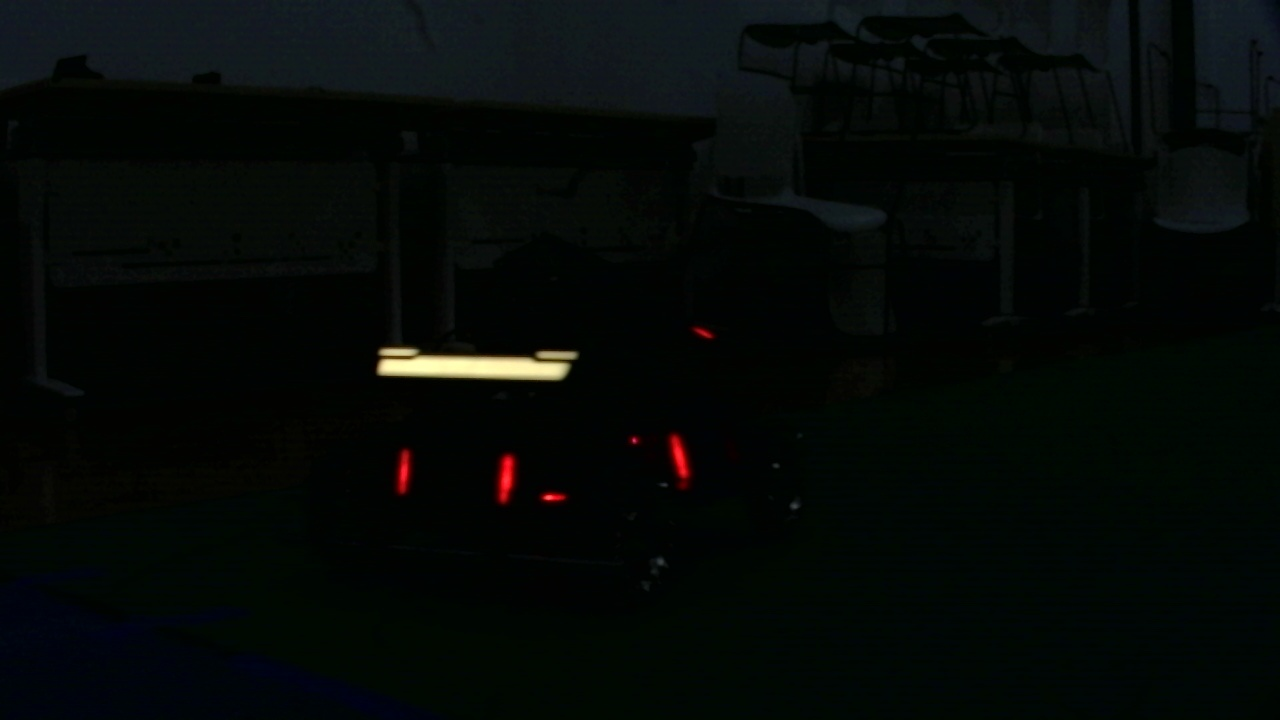lamp: (492, 447, 526, 511), (663, 420, 694, 483), (396, 436, 413, 502)
notpair1: (492, 424, 692, 509)
pair1: (393, 451, 518, 512)
